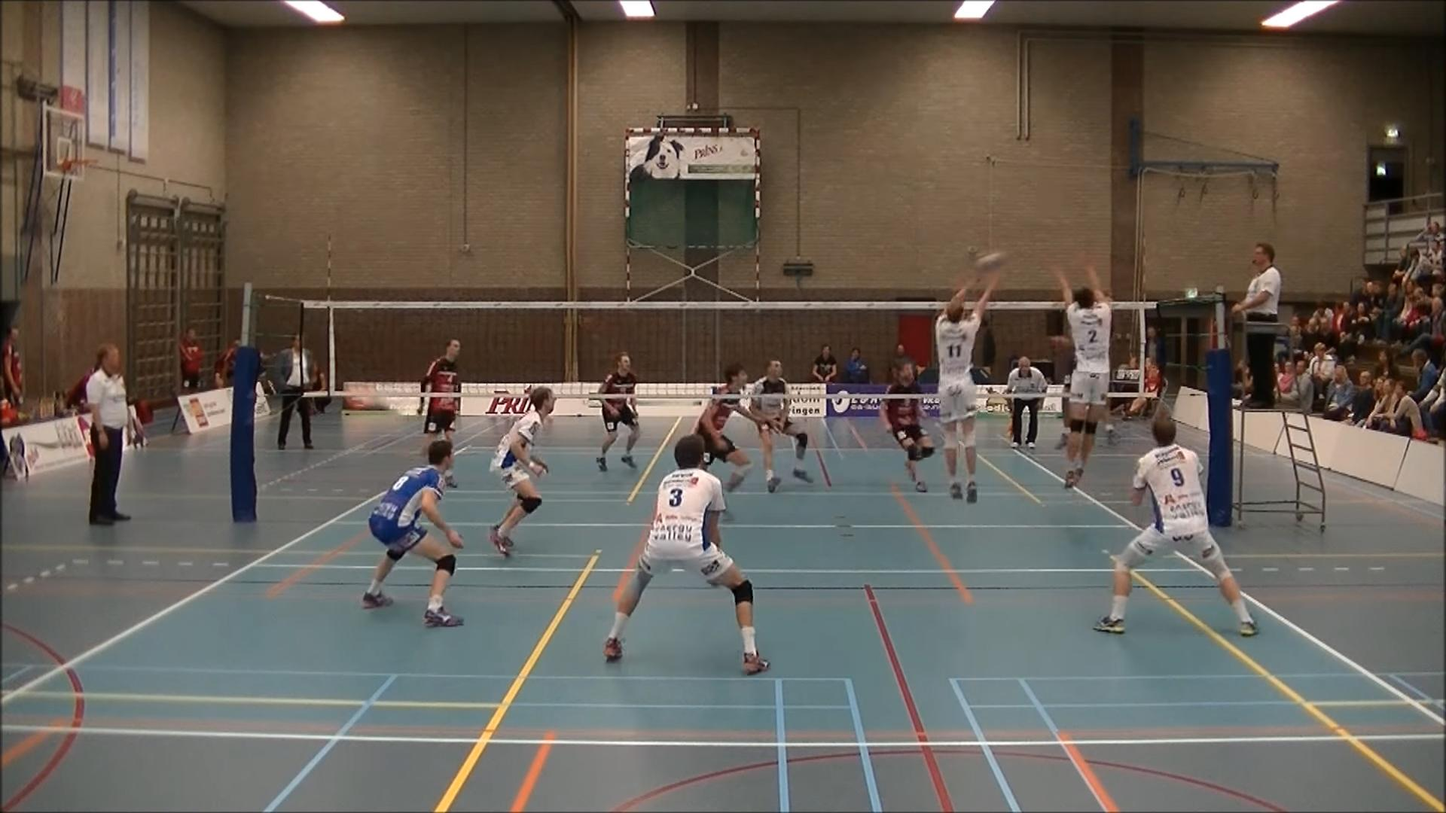Block: (1043, 259, 1129, 497)
Player: (605, 434, 768, 674), (1094, 404, 1257, 636), (924, 269, 1006, 506), (362, 440, 462, 626), (489, 387, 554, 556), (694, 362, 764, 491), (750, 359, 812, 492), (880, 358, 934, 492), (596, 352, 639, 471), (420, 339, 460, 447), (1050, 335, 1074, 449)
ball: (972, 252, 1005, 269)
